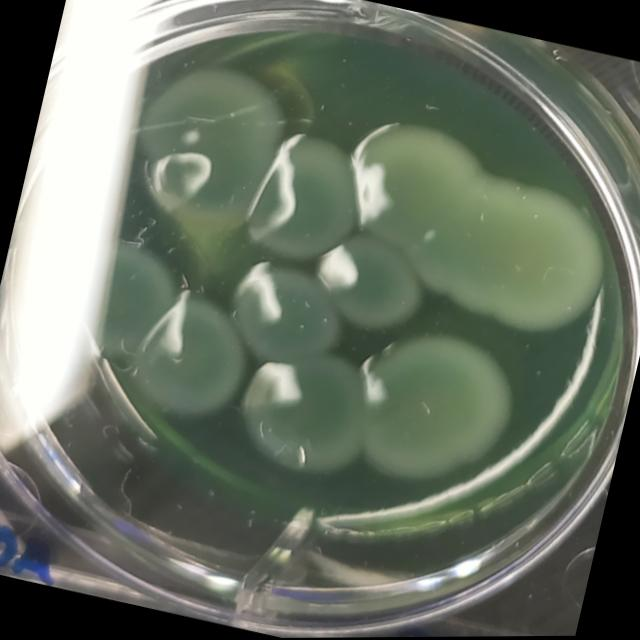vibrio: (320, 103, 620, 348), (120, 41, 310, 252), (342, 311, 534, 498), (222, 334, 384, 492), (111, 288, 268, 440), (230, 122, 380, 277), (60, 223, 190, 370), (216, 249, 357, 371), (302, 227, 433, 338)
